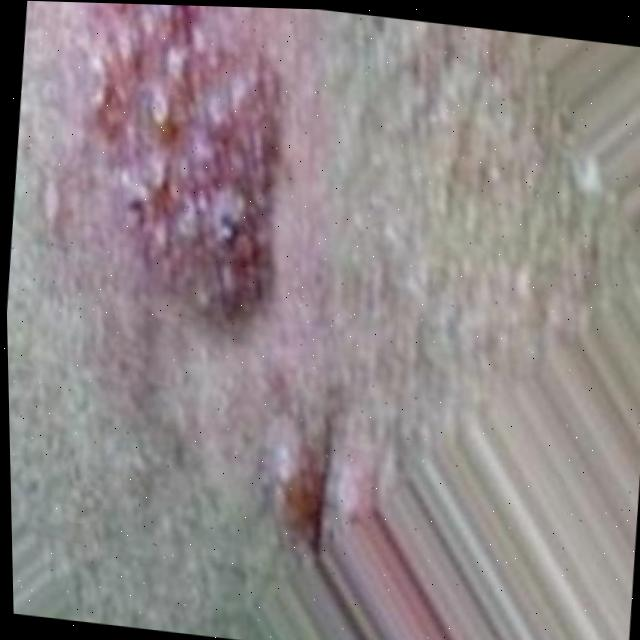Shingles: (60, 2, 294, 320)
